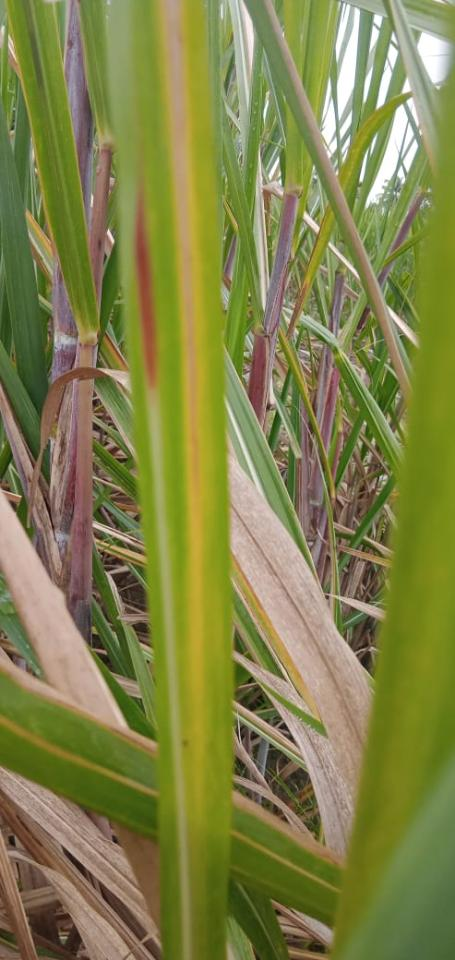RedRot: (133, 180, 159, 387)
Rust: (180, 739, 190, 747)
Yellow: (146, 0, 211, 878)
